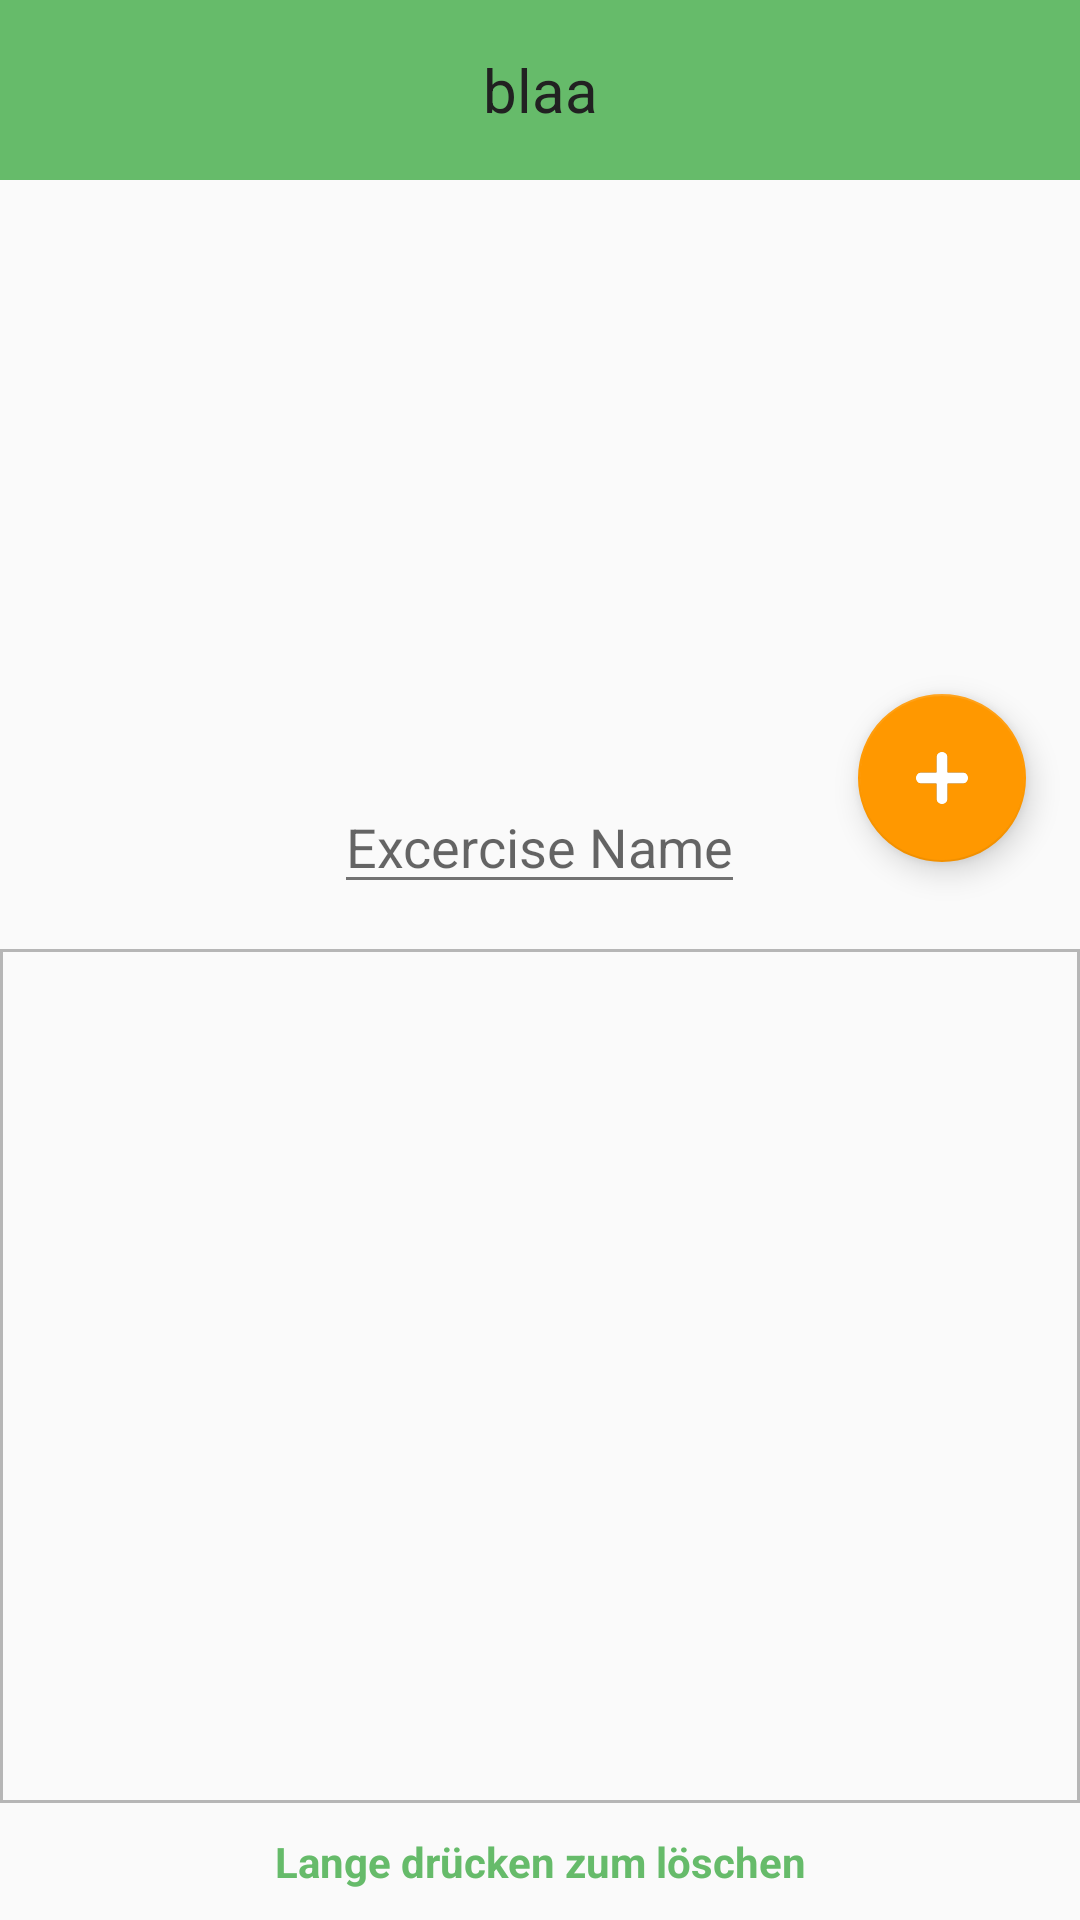

Icon click points for this 1080px x 1920px phone screenshot, format [x,y]:
addnewcross: [942,778]
